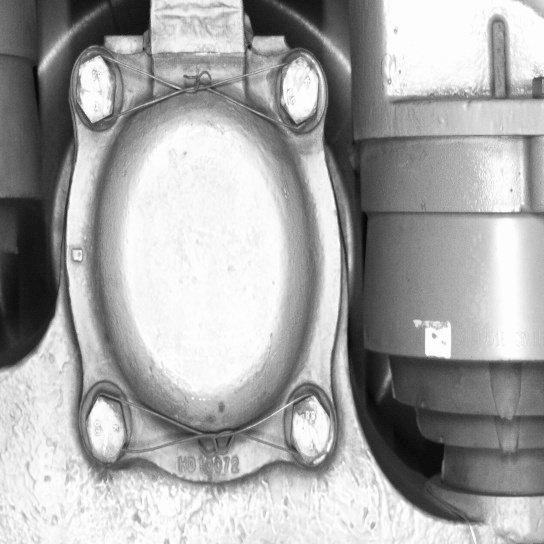IronWire: (67, 373, 336, 474), (56, 41, 329, 137)
Screw: (71, 378, 139, 476), (59, 42, 124, 137), (268, 45, 330, 135), (281, 384, 338, 469)
